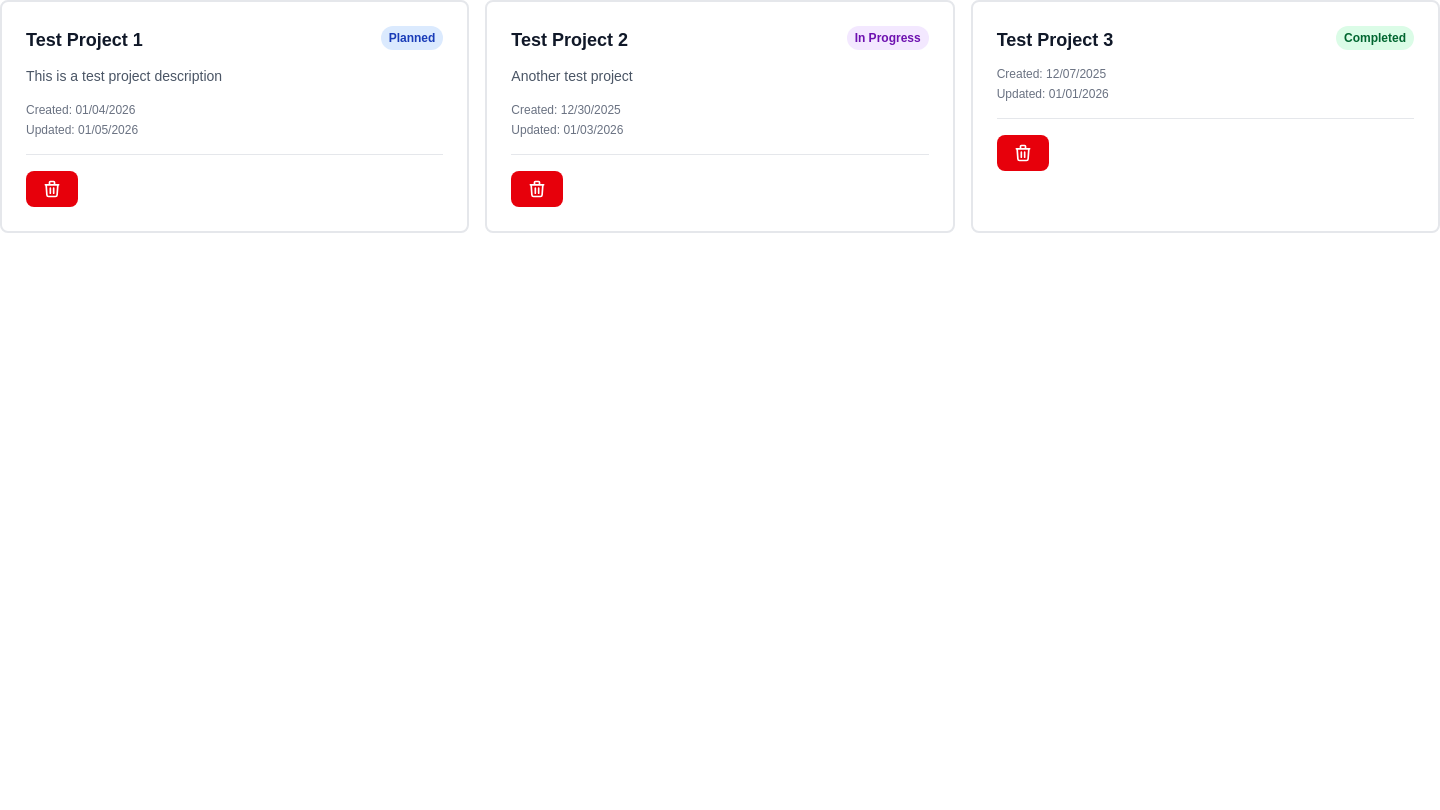
Test: ProjectList › Edge Cases › should close modal when cancel button is clicked
Expected: the heading "Test Project 1" is shown, [26,30,143,50]
Click the button named "delete project test project 1". click: (52,189)
box: [26,171,78,207]
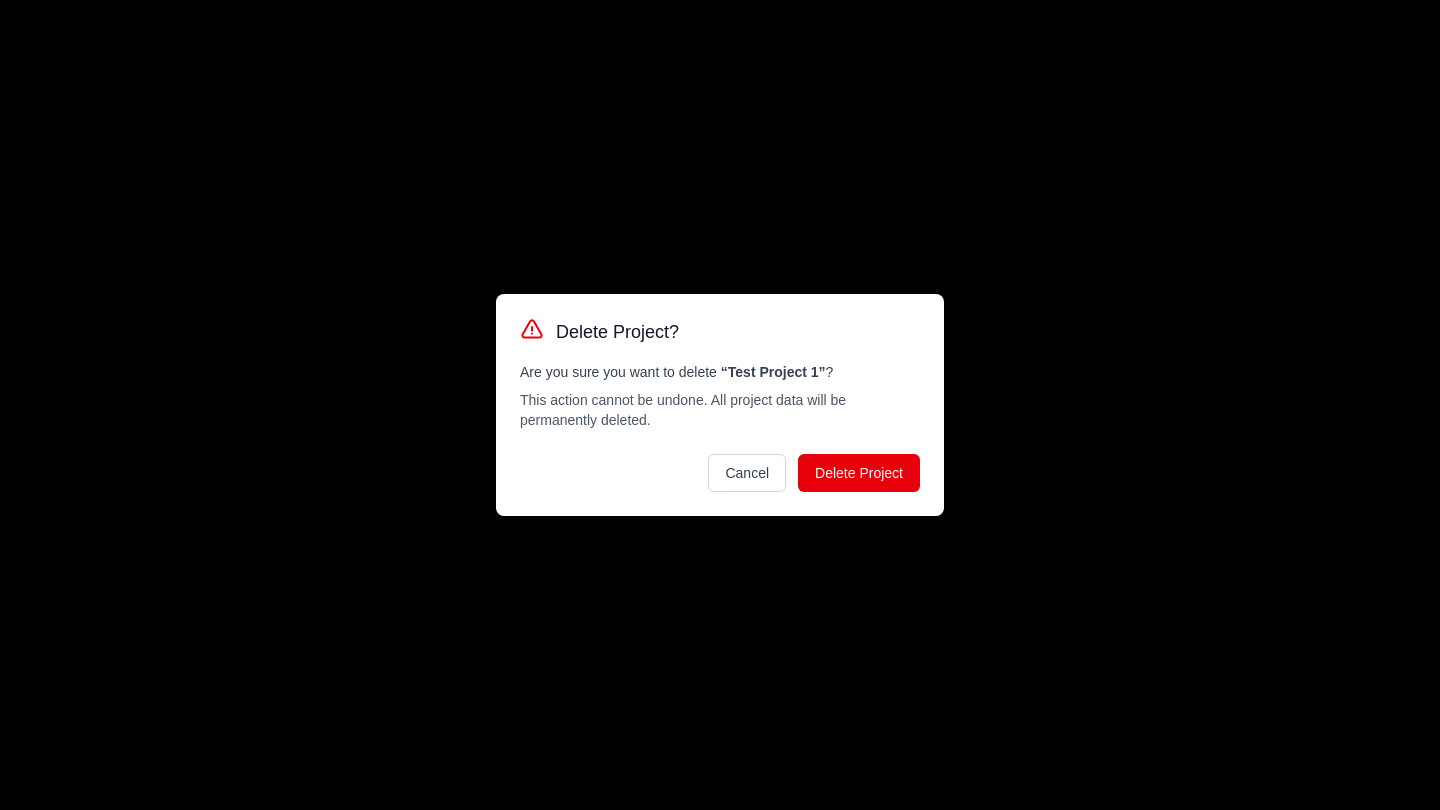
Now the heading "Delete Project?" is shown, box [556,322,679,342]
// Click cancel button
Click the button "Cancel". click: (747,473)
box: [708,454,786,492]
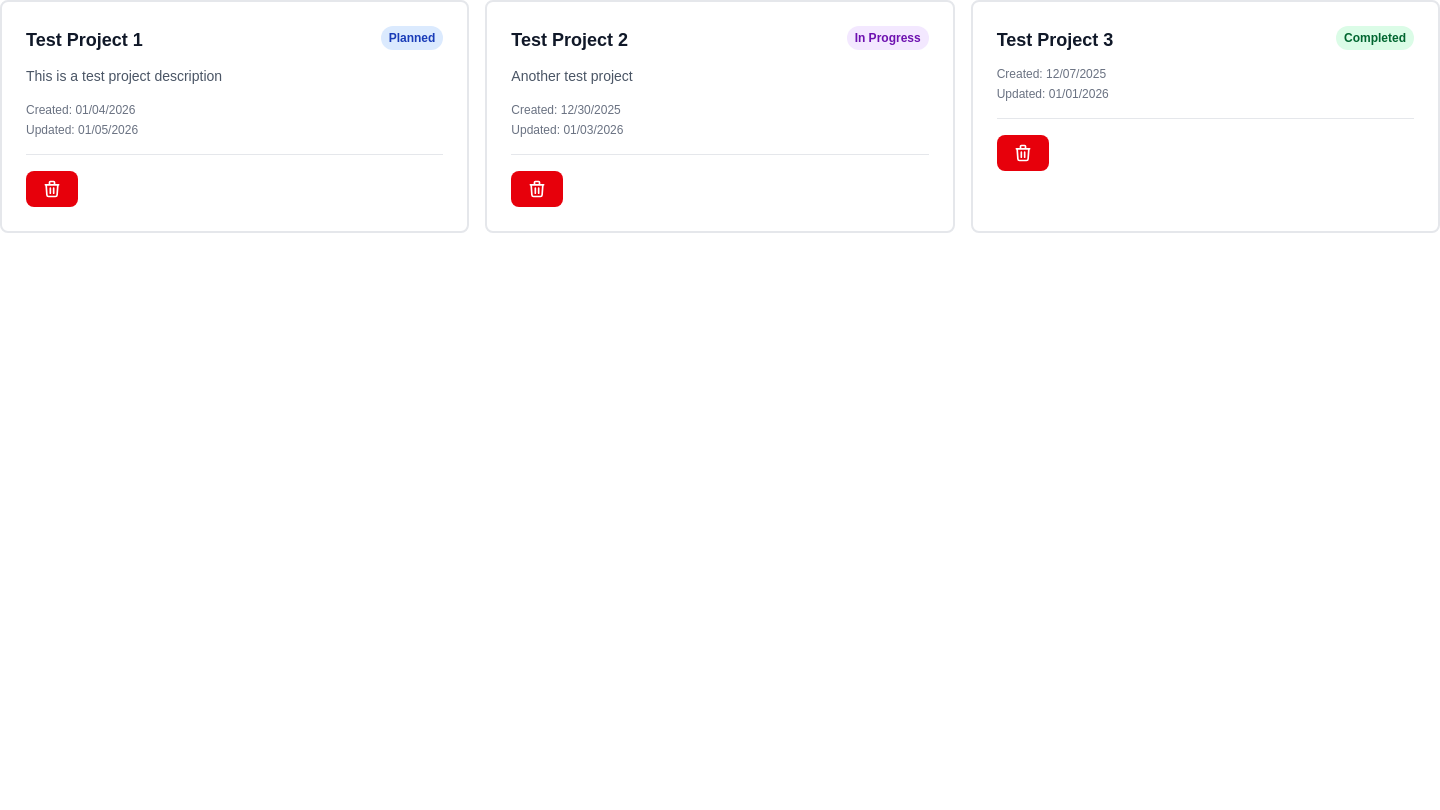
Expected: the heading "Test Project 1" is shown, [26,30,143,50]
Now the heading "Delete Project?" is gone
